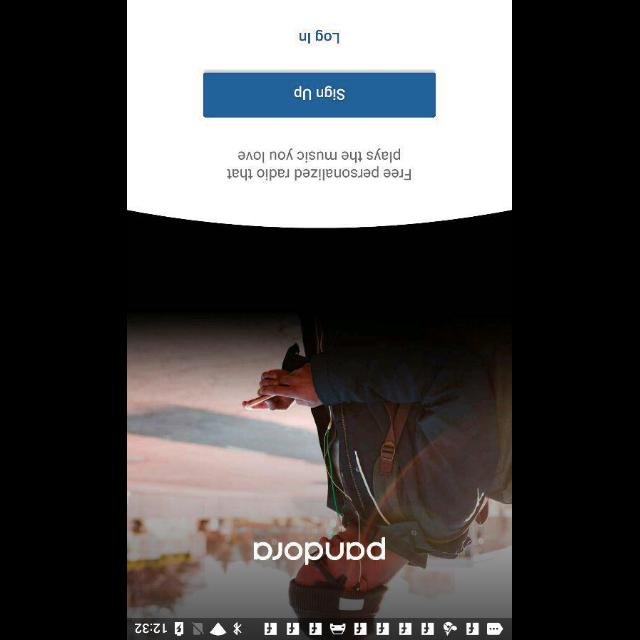image: (128, 209, 512, 616)
text: (226, 147, 412, 180), (254, 535, 386, 565), (300, 30, 340, 44)
textbutton: (204, 72, 436, 118)
uppertaskbar: (128, 617, 512, 639)
